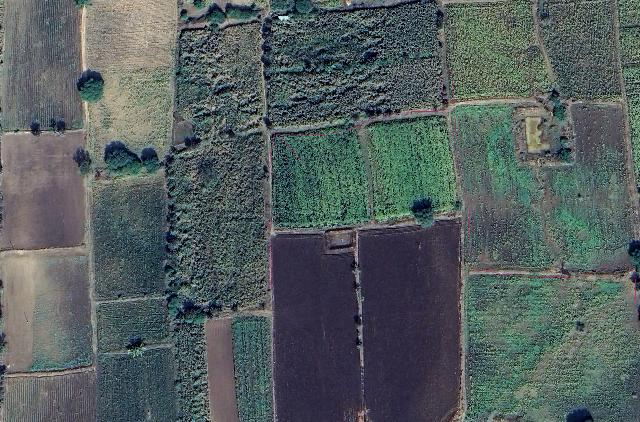EmptyFarms: (359, 215, 463, 421), (270, 229, 363, 422), (0, 131, 84, 252), (0, 254, 35, 371), (206, 315, 239, 421)
Farms: (166, 22, 270, 422), (451, 105, 636, 270), (468, 275, 640, 422), (263, 0, 447, 130), (84, 2, 176, 174), (445, 3, 558, 99), (0, 0, 82, 129), (271, 122, 370, 228), (93, 175, 169, 301), (534, 0, 624, 103), (368, 114, 455, 219), (33, 252, 90, 374), (98, 347, 177, 422), (0, 369, 95, 422), (233, 316, 274, 422), (97, 297, 168, 356)
